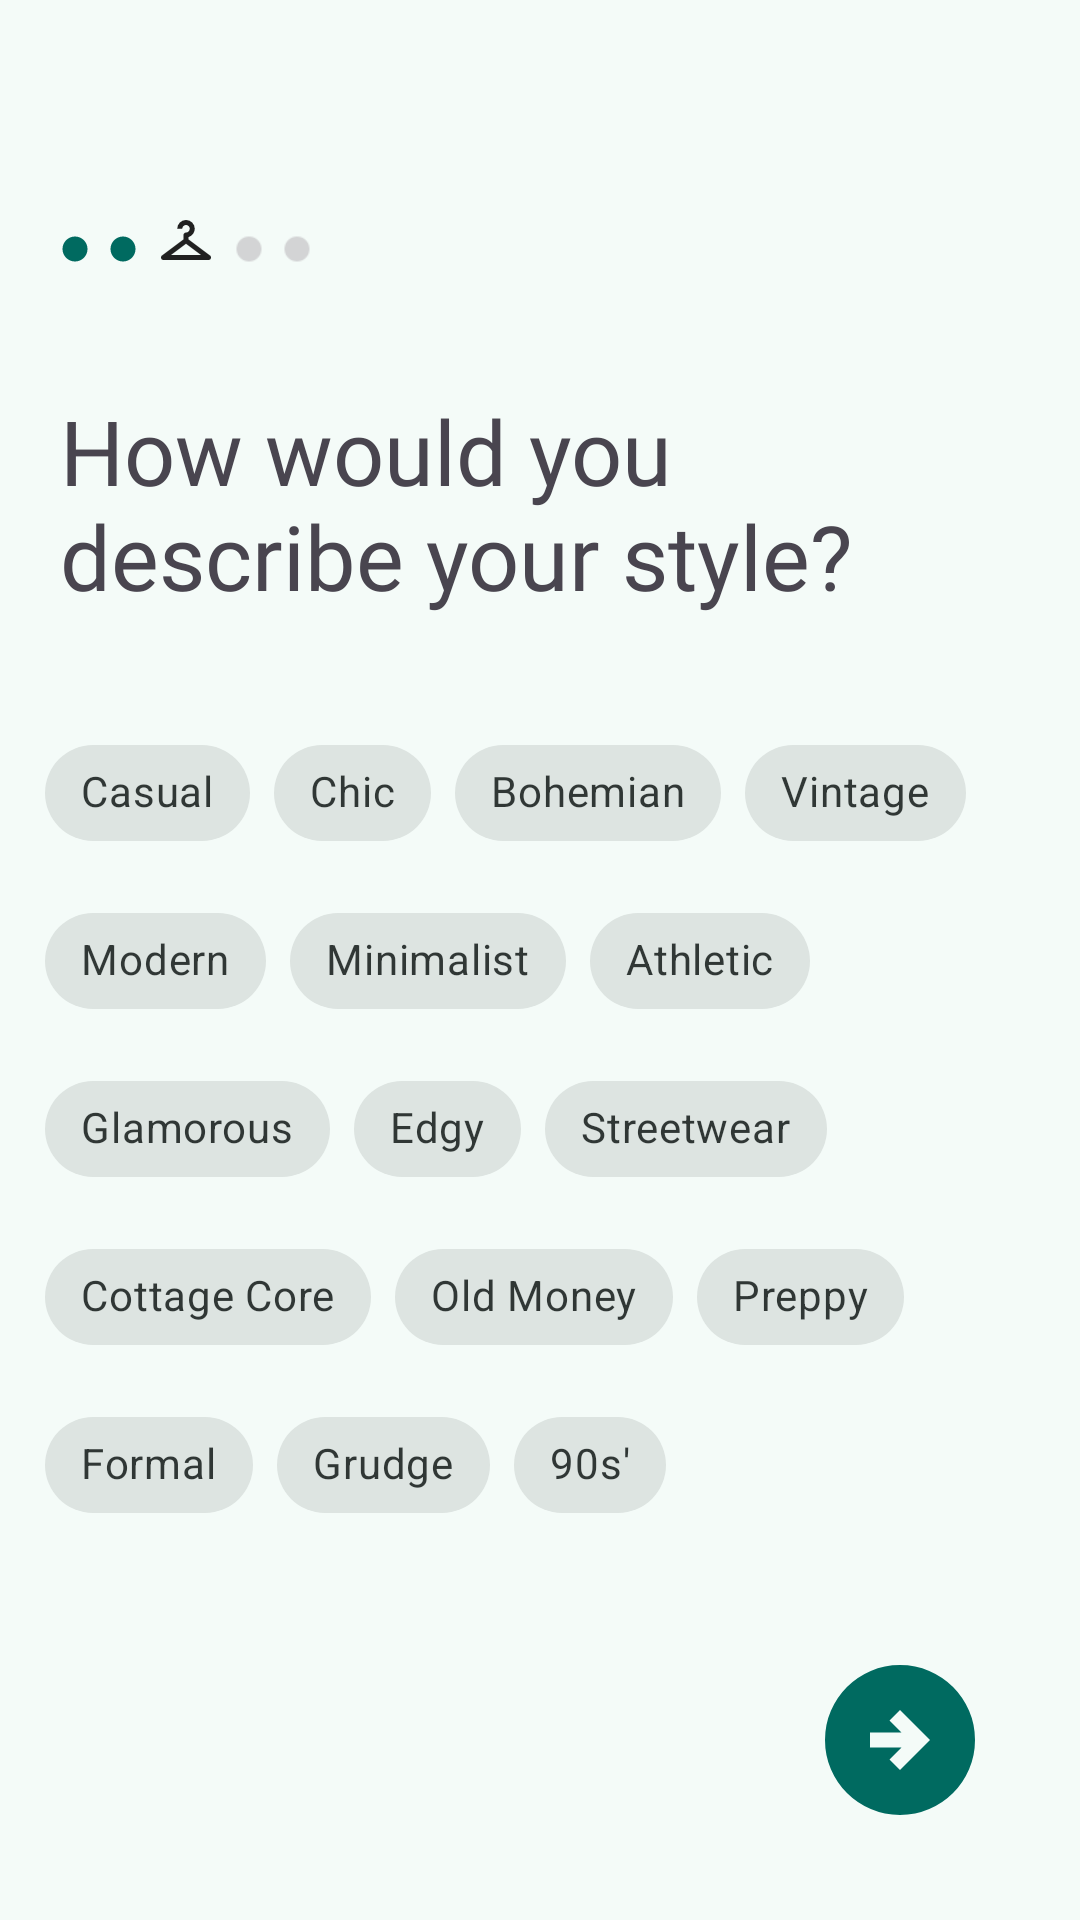

Where icons sit on this 1080*1920 app screen, as (x1, y1, x2, y2):
hanger: (161, 220, 211, 260)
next: (825, 1665, 975, 1815)
